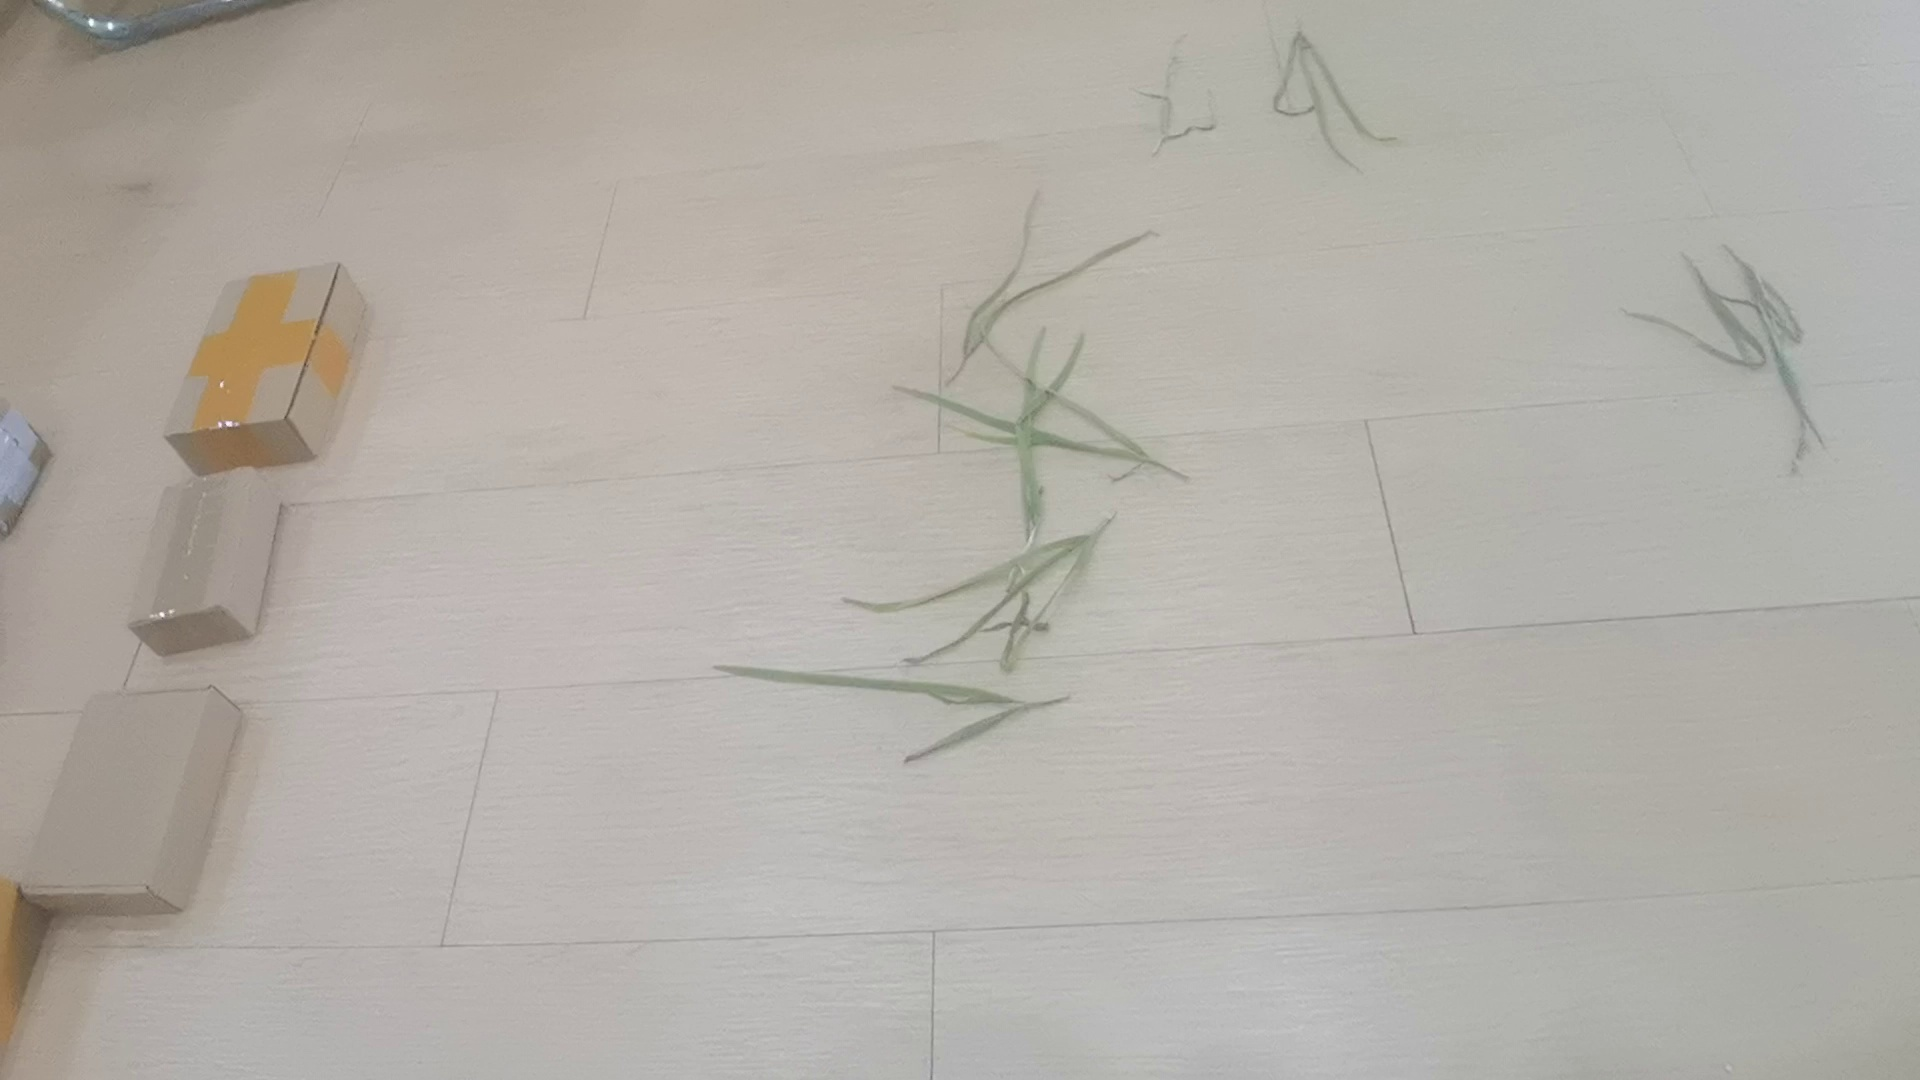chives: (808, 216, 1192, 495), (812, 508, 1151, 724), (1663, 229, 1858, 458), (1247, 26, 1410, 179)
